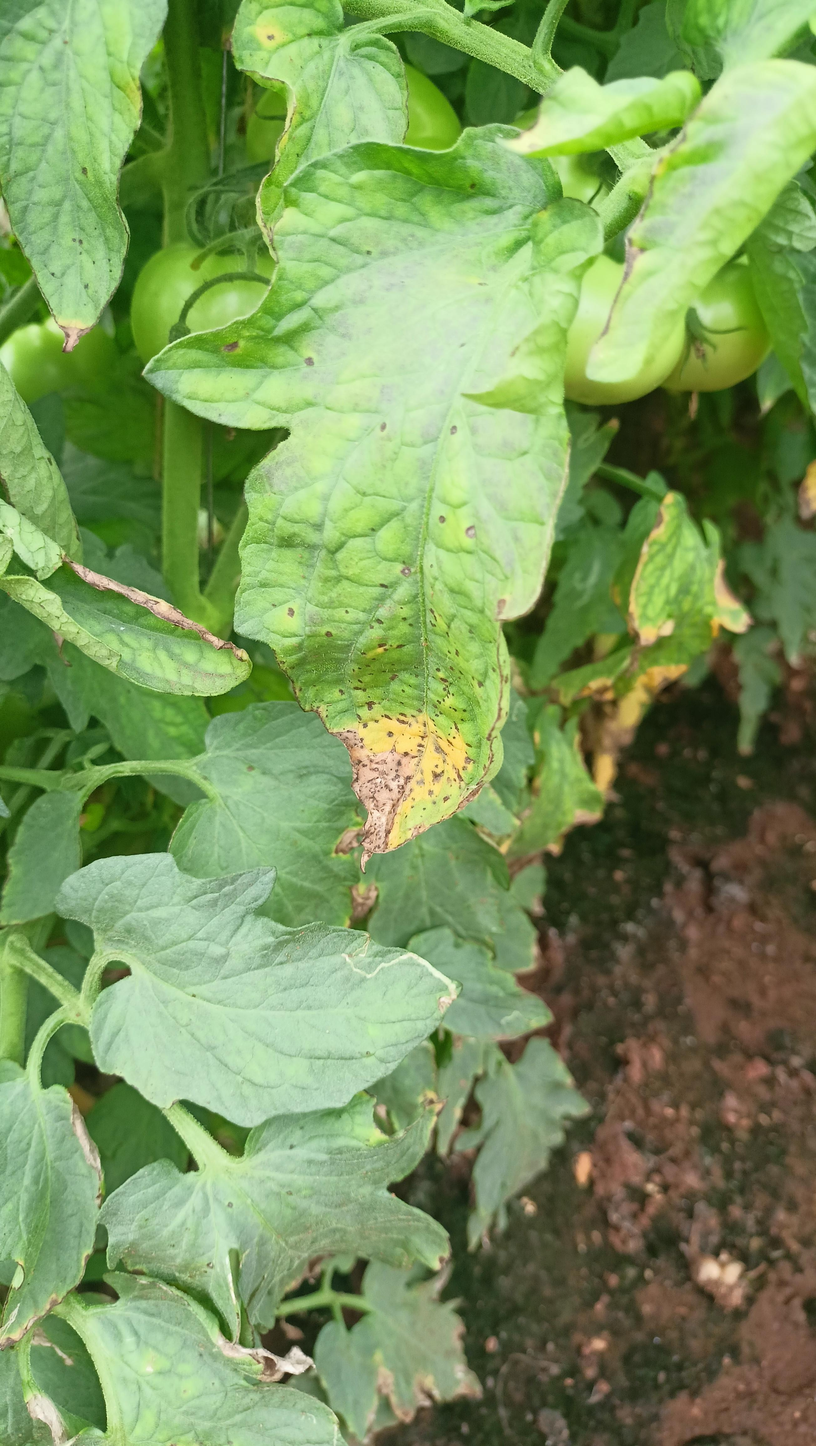Early Blight: (138, 121, 609, 870)
